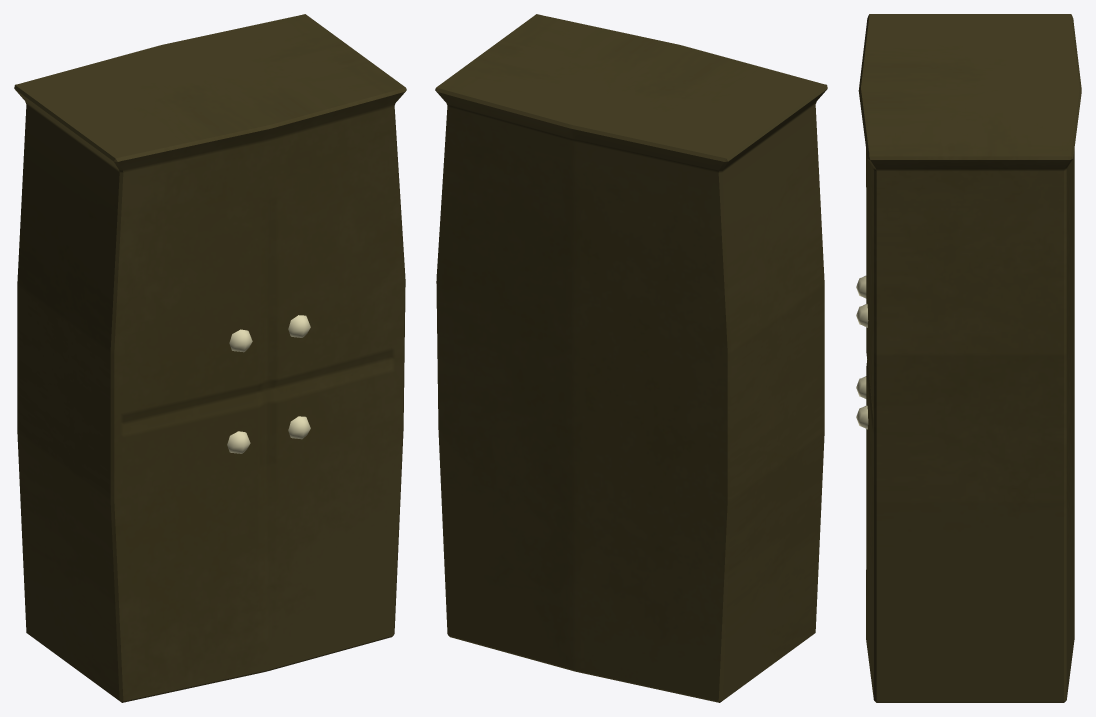
The model's file is bathroom closet.fbx.
3 views of the same model, side by side, from view 1: azimuth 30°, elevation 25°; view 2: azimuth 150°, elevation 25°; view 3: azimuth 270°, elevation 25° (orthographic).
Visible parts, largest first — view 1: polySurface558; view 2: polySurface558; view 3: polySurface558.
Boxes of the visible parts, x1,y1,x2,y2 form: polySurface558: (14, 14, 406, 702); polySurface558: (435, 14, 827, 702); polySurface558: (856, 14, 1081, 702).
Size of the model in its own units: 1.22 by 2.17 by 0.8037.
1 material, 1 textured.
